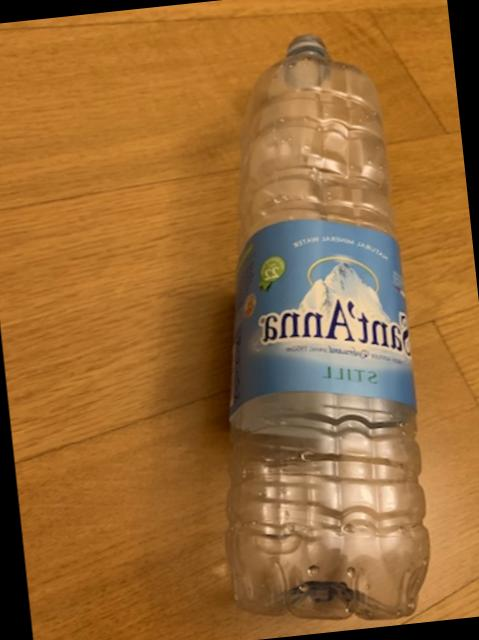plastic: (227, 33, 430, 617)
